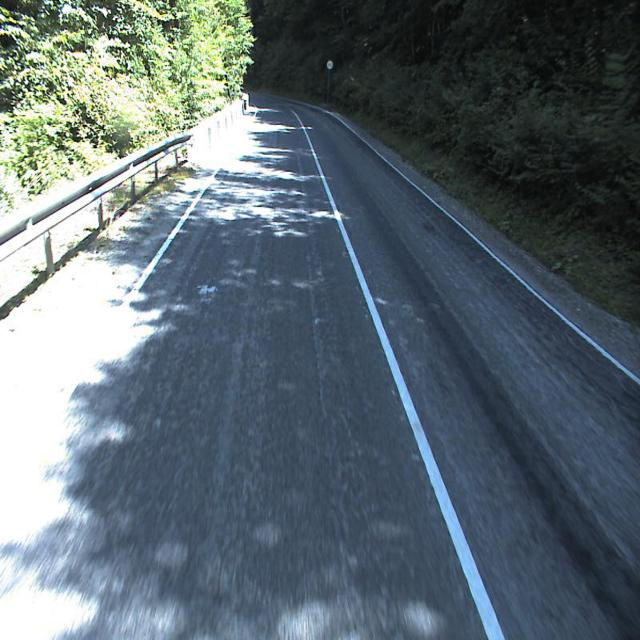road: (0, 94, 640, 639)
